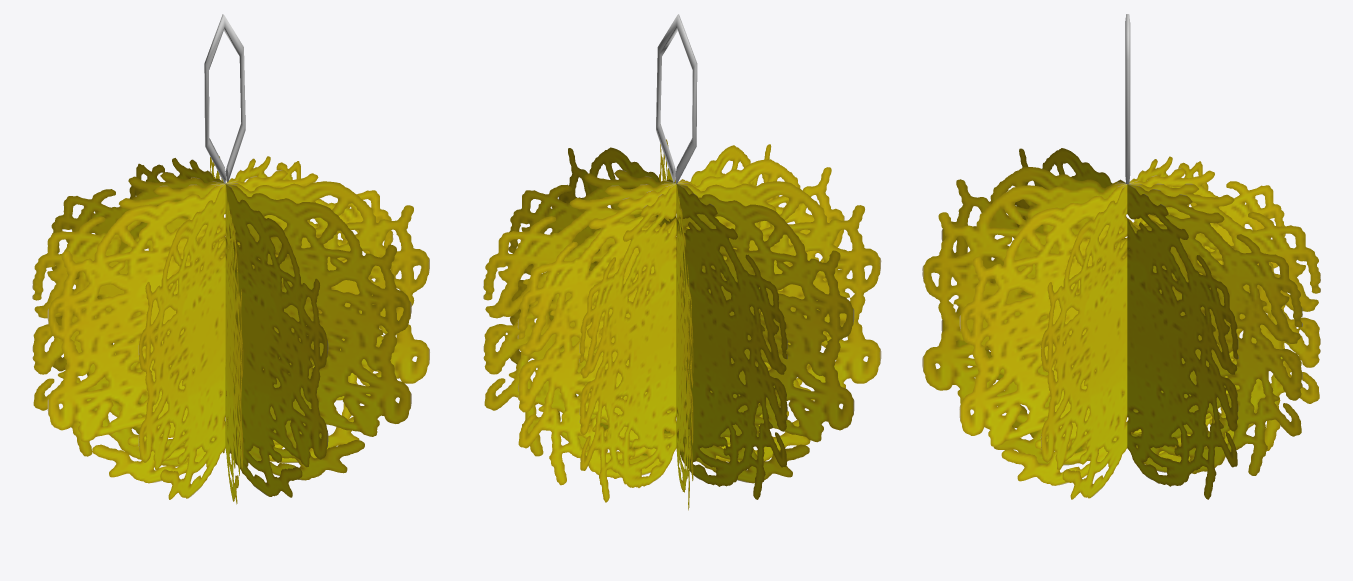
File: Loofah_B.FBX
3 views of the same model, side by side, from view 1: azimuth 30°, elevation 25°; view 2: azimuth 150°, elevation 25°; view 3: azimuth 270°, elevation 25° (orthographic).
Parts seen in each view (by area): view 1: Loofah; view 2: Loofah; view 3: Loofah.
Boxes of the visible parts, box(x1,y1,x2,y2) form: Loofah: box(32, 14, 429, 504); Loofah: box(483, 14, 881, 510); Loofah: box(922, 14, 1320, 499).
Bounding box in the file's own units: 30 × 36.22 × 30.
